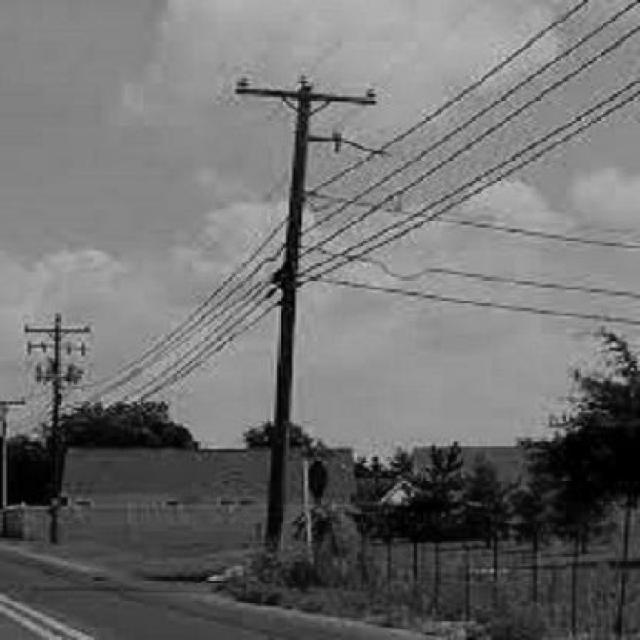Pole: (235, 76, 376, 546), (24, 314, 91, 540)
